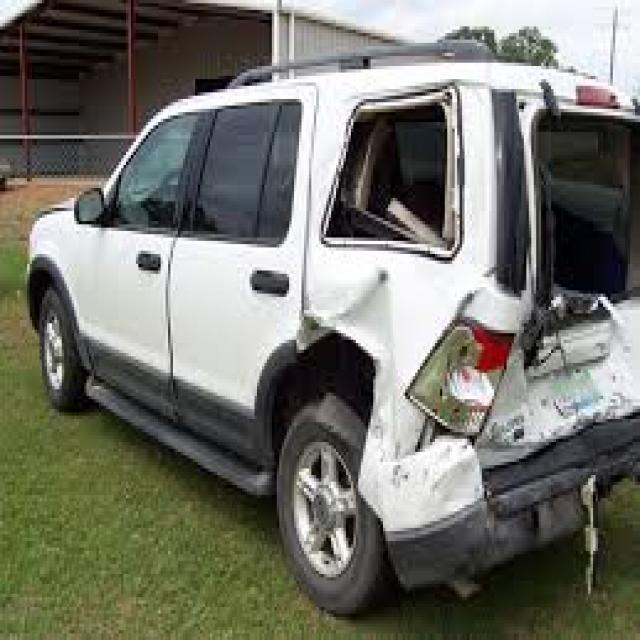moderate: (355, 47, 633, 557)
